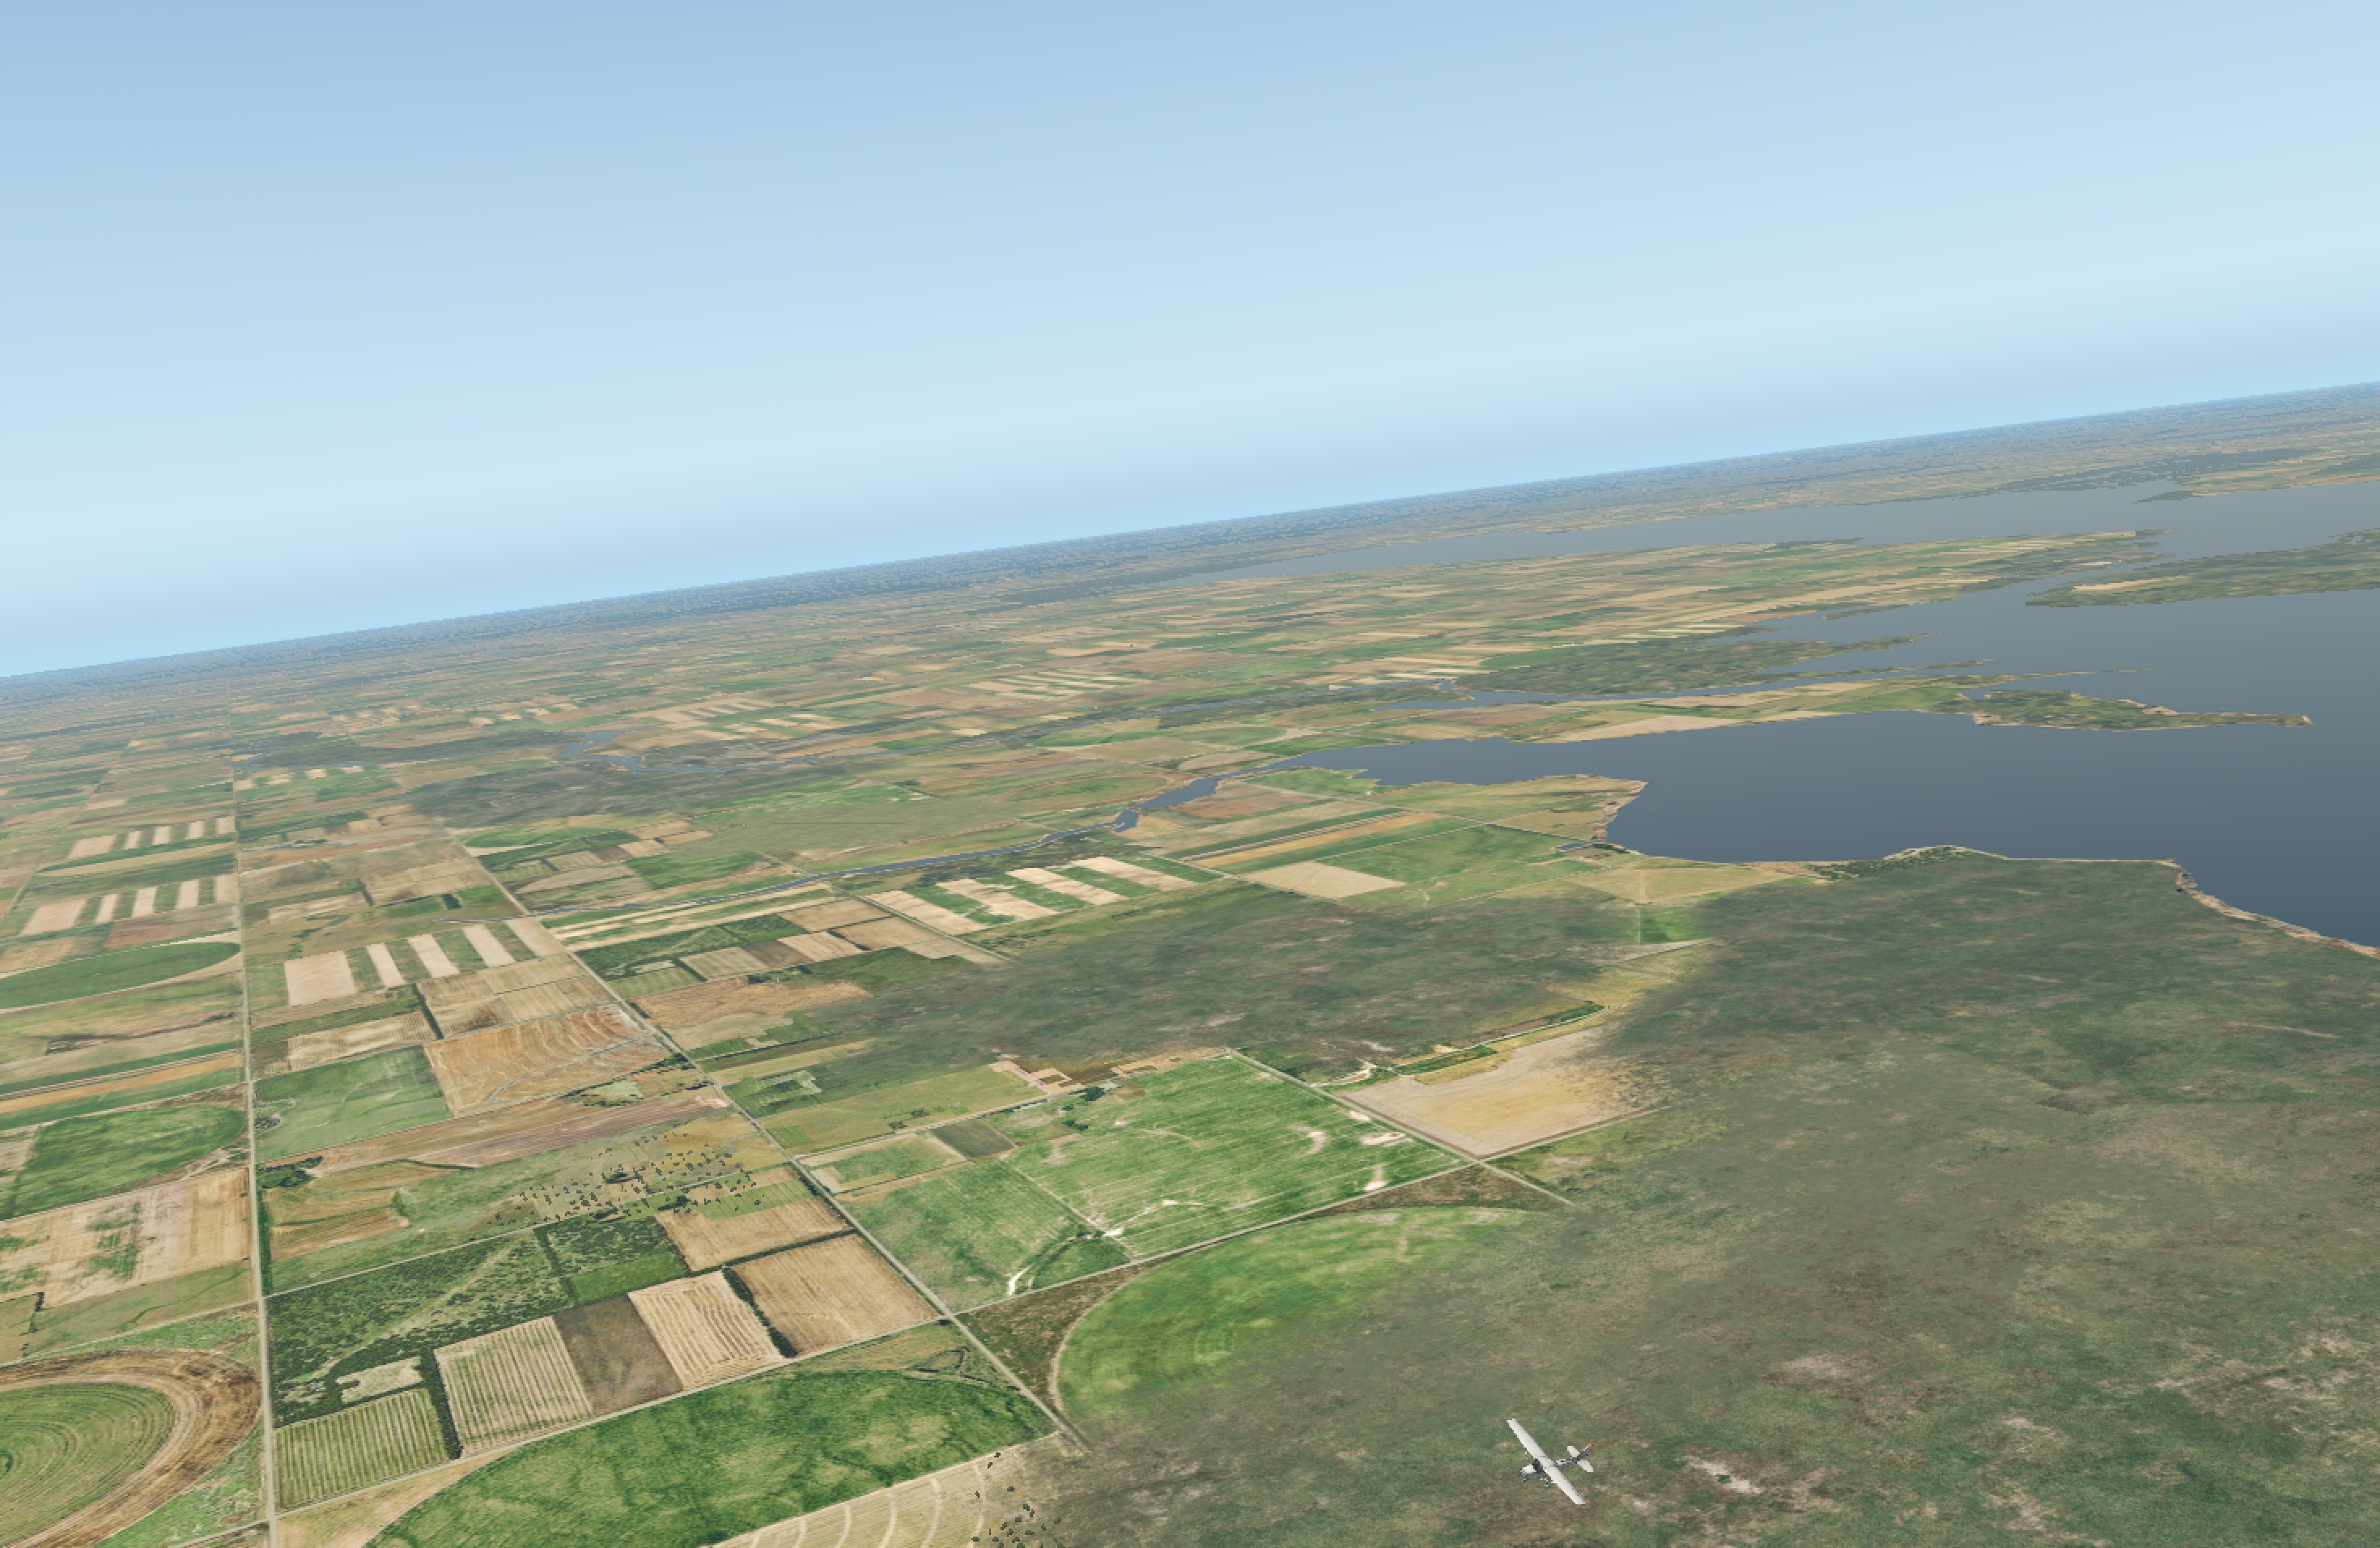aircraft: (1501, 1453, 1582, 1484)
